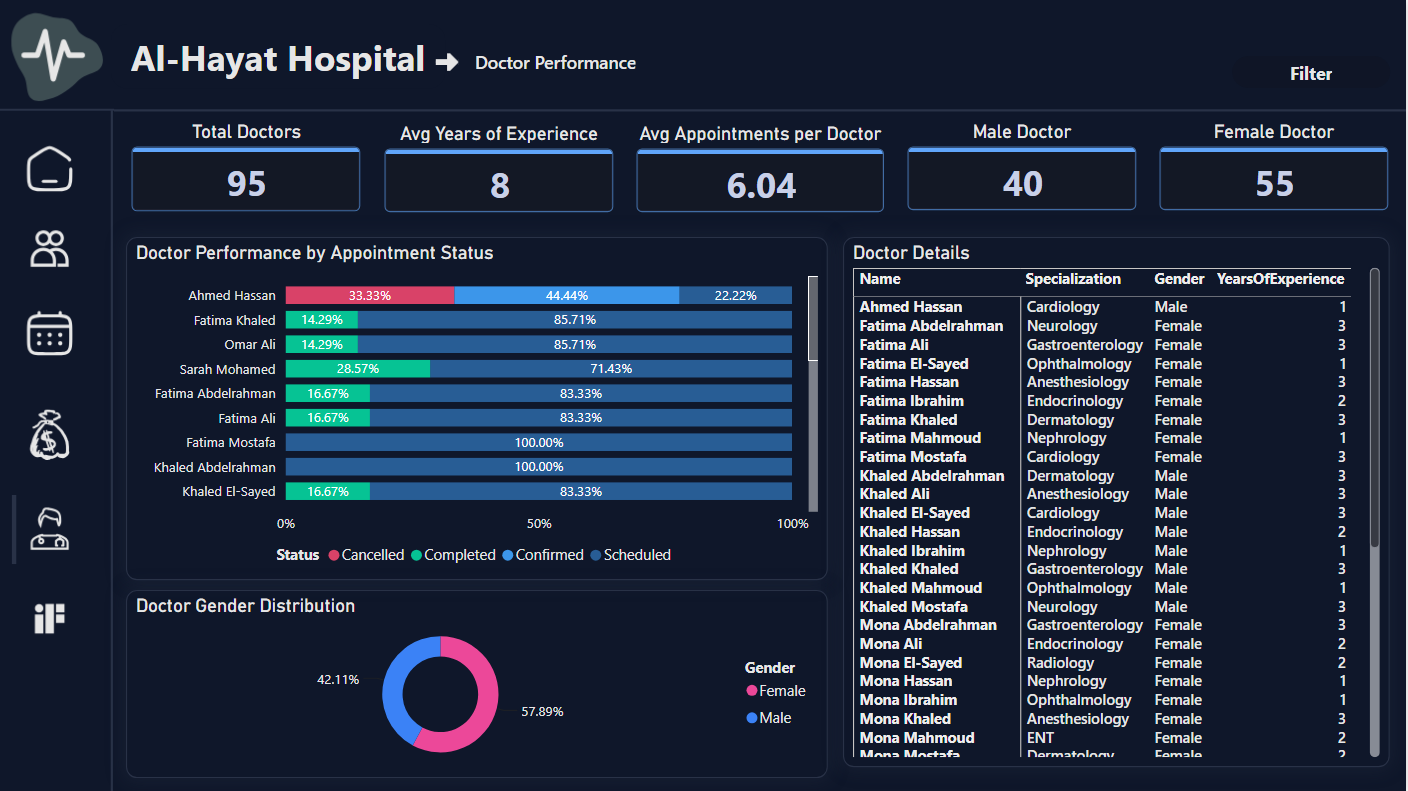

The dashboard page shown, as its layout file describes it:
{"tool":"powerbi","page":{"name":"Doctor Performance","canvas":[1280,720],"ordinal":4},"visuals":[{"type":"shape","box":[105.8,74.2,1174.5,51.8],"z":0},{"type":"shape","box":[90,100.1,27,619.9],"z":1000},{"type":"shape","box":[0,88.9,105.8,21.4],"z":2000},{"type":"shape","box":[102.5,21.4,303.8,58.5],"z":3000},{"type":"actionButton","box":[0,0,104,100.4],"z":4000},{"type":"actionButton","box":[20.2,126,57.4,54],"z":5000},{"type":"actionButton","box":[20.2,198,57.4,54],"z":6000},{"type":"actionButton","box":[20.2,275.6,57.4,54],"z":7000},{"type":"actionButton","box":[20.2,367.9,57.4,54],"z":8000},{"type":"actionButton","box":[20.2,454.5,57.4,54],"z":9000},{"type":"actionButton","box":[20.2,535.5,57.4,54],"z":10000},{"type":"shape","box":[0,450,29.2,63],"z":11000},{"type":"actionButton","box":[393.9,41.6,228.4,29.2],"z":12000},{"type":"cardVisual","title":"Total Doctors","fields":{"Data":["Measure.Total Doctors"]},"box":[116.1,108.9,219,88.3],"z":15000},{"type":"cardVisual","title":"Avg Years of Experience","fields":{"Data":["Measure.Avg Years of Experience"]},"box":[346.3,110.9,218,87.6],"z":16000},{"type":"cardVisual","title":"Male Doctor","fields":{"Data":["Measure.Male Doctor"]},"box":[821.7,109.5,218,87.6],"z":17000},{"type":"cardVisual","title":"Female Doctor","fields":{"Data":["Measure.Female Doctor"]},"box":[1050.9,109.5,218,87.6],"z":18000},{"type":"donutChart","title":"Doctor Gender Distribution","fields":{"Y":["Measure.Total Doctors"],"Category":["Doctors.Gender"]},"box":[116.1,536,637.6,170.6],"z":19000},{"type":"pivotTable","title":"Doctor Details ","fields":{"Rows":["Doctors.FullName"],"Values":["Min(Doctors.Specialization)","Min(Doctors.Gender)","CountNonNull(Doctors.YearsOfExperience)"]},"box":[768.3,215.2,496.7,481.7],"z":20000},{"type":"cardVisual","title":"Avg Appointments per Doctor","fields":{"Data":["Measure.Average Appointments per Doctor"]},"box":[575.5,110.9,235,87.6],"z":21000},{"type":"hundredPercentStackedBarChart","title":"Doctor Performance by Appointment Status","fields":{"Category":["Doctors.FullName"],"Series":["Appointments.Status"],"Y":["Measure.Appointments Count"]},"box":[116.1,215.3,637.6,312.1],"z":22000},{"type":"actionButton","box":[1121.5,50.8,144,29],"z":22500}]}

Visuals, with their boxes on the page's 1280x720 design canvas (x1, y1, x2, y2). These are canvas units, not pixel positions in the 1408x791 screenshot, which may show the page scaled, cropped or inside an application window:
shape: box=[106, 74, 1280, 126]
shape: box=[90, 100, 117, 720]
shape: box=[0, 89, 106, 110]
shape: box=[102, 21, 406, 80]
actionButton: box=[0, 0, 104, 100]
actionButton: box=[20, 126, 78, 180]
actionButton: box=[20, 198, 78, 252]
actionButton: box=[20, 276, 78, 330]
actionButton: box=[20, 368, 78, 422]
actionButton: box=[20, 454, 78, 508]
actionButton: box=[20, 536, 78, 590]
shape: box=[0, 450, 29, 513]
actionButton: box=[394, 42, 622, 71]
"Total Doctors" cardVisual: box=[116, 109, 335, 197]
"Avg Years of Experience" cardVisual: box=[346, 111, 564, 198]
"Male Doctor" cardVisual: box=[822, 110, 1040, 197]
"Female Doctor" cardVisual: box=[1051, 110, 1269, 197]
"Doctor Gender Distribution" donutChart: box=[116, 536, 754, 707]
"Doctor Details " pivotTable: box=[768, 215, 1265, 697]
"Avg Appointments per Doctor" cardVisual: box=[576, 111, 810, 198]
"Doctor Performance by Appointment Status" hundredPercentStackedBarChart: box=[116, 215, 754, 527]
actionButton: box=[1122, 51, 1266, 80]
